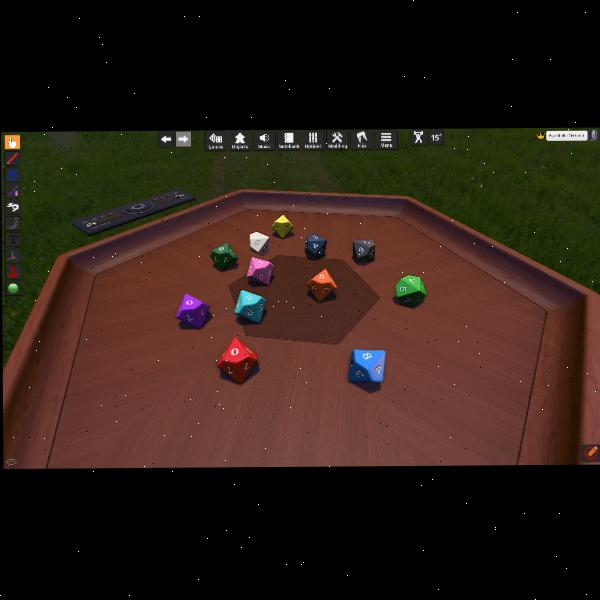d10: (217, 336, 258, 382), (176, 292, 209, 329), (346, 348, 383, 381), (234, 290, 267, 323), (307, 269, 337, 302), (394, 274, 424, 306), (210, 242, 238, 271), (246, 256, 274, 284), (353, 239, 375, 262), (271, 214, 292, 238), (306, 235, 327, 259), (250, 231, 270, 253)
